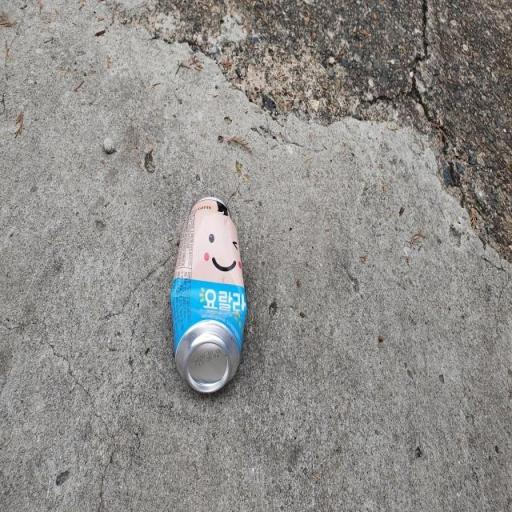metal: (162, 183, 258, 401)
